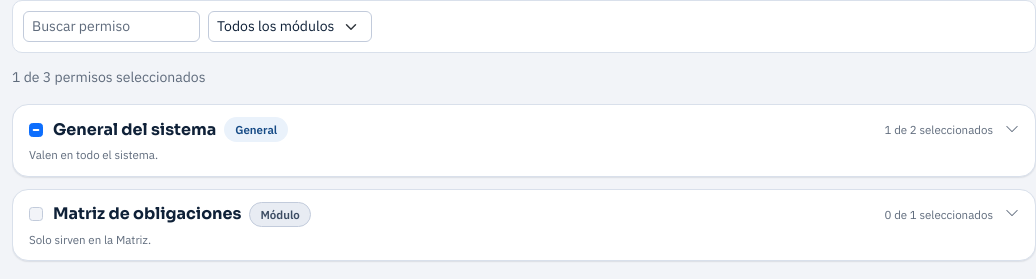
El selector del rol › cuenta lo seleccionado por grupo y marca el grupo entero de una vez
The image size is (1036, 279).
Expected: the text "1 de 2 seleccionados" is shown, [884,121,993,138]
What coordinates should you click on to do the following:
click the checkbox named "Todo General del sistema"
I would click on:
 (36, 130)
Its box is [29,123,43,137].
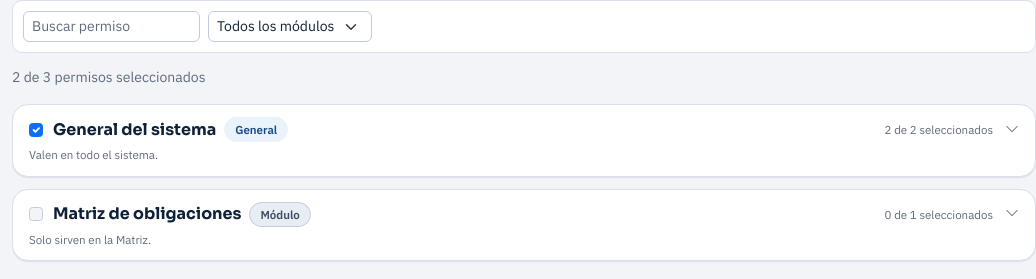
Expected: the text "2 de 2 seleccionados" is shown, [884,121,993,138]
Expected: the text "2 de 3 permisos seleccionados" is shown, [12,68,206,86]
